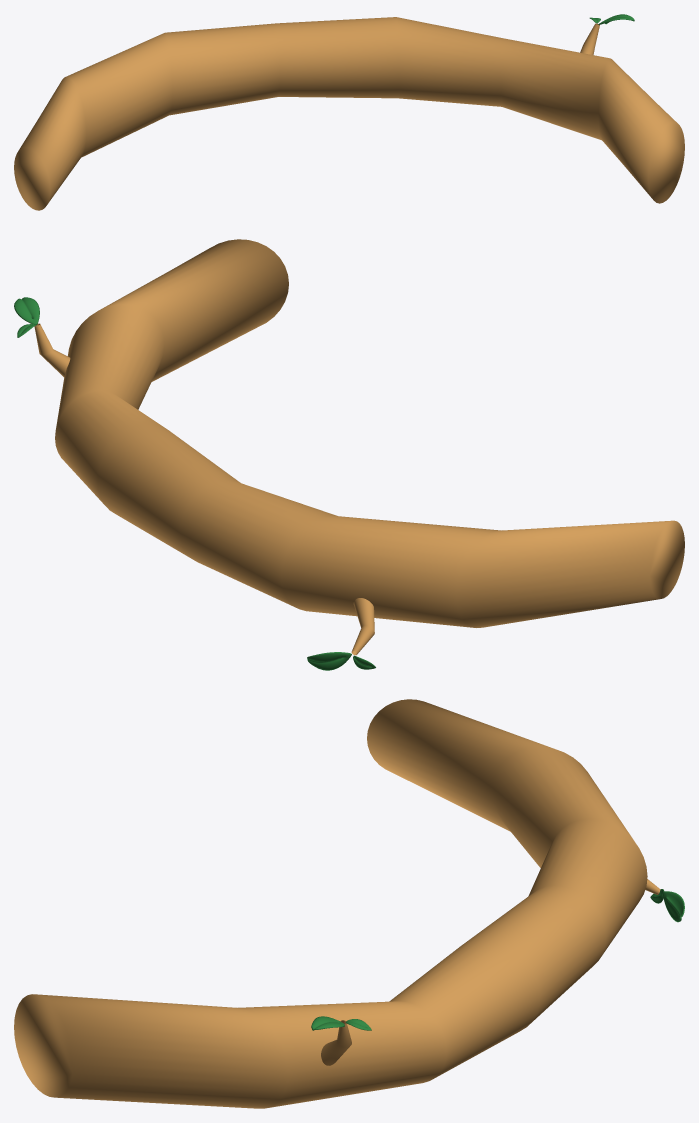
Rendered from Branch Platform 3.fbx.
3 renders of one model, top to bottom at view 1: azimuth 30°, elevation 25°; view 2: azimuth 150°, elevation 25°; view 3: azimuth 270°, elevation 25°, orthographic. The views are drawn at different scales.
Parts seen in each view (by area): view 1: Cylinder; view 2: Cylinder; view 3: Cylinder.
Boxes of the visible parts, box(x1,y1,x2,y2) form: Cylinder: box(14, 17, 684, 210); Cylinder: box(34, 239, 684, 655); Cylinder: box(14, 699, 660, 1108).
Size of the model in its own units: 823 by 151 by 656.
